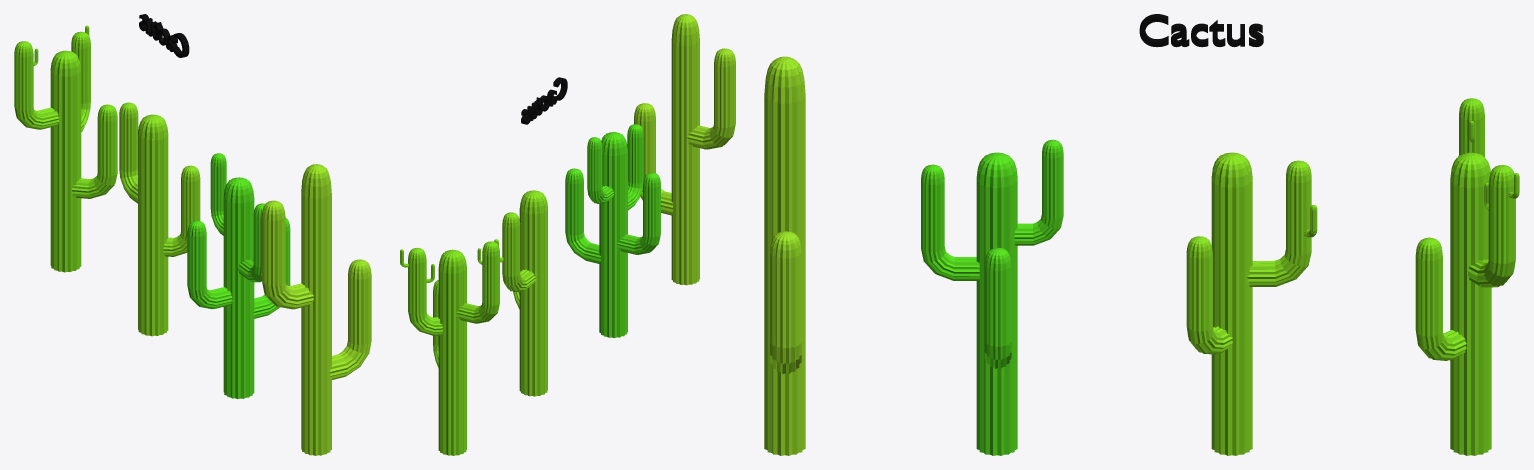
File: cactus.gltf
3 views of the same model, side by side, from view 1: azimuth 30°, elevation 25°; view 2: azimuth 150°, elevation 25°; view 3: azimuth 270°, elevation 25° (orthographic). The views are drawn at different scales.
Visible parts, largest first — view 1: Circle.003, Circle.001, Circle, Circle.002, Text; view 2: Circle.003, Circle, Circle.001, Circle.002, Text; view 3: Circle.001, Circle.002, Circle, Circle.003, Text.
Part boxes in pixels (box(x1,y1,x2,y2)): Circle.003: box(262, 164, 371, 455); Circle.001: box(14, 25, 117, 272); Circle: box(187, 153, 290, 398); Circle.002: box(119, 102, 200, 336); Text: box(139, 14, 189, 57); Circle.003: box(634, 14, 735, 285); Circle: box(565, 124, 660, 337); Circle.001: box(400, 241, 499, 455); Circle.002: box(494, 190, 547, 396); Text: box(521, 77, 567, 124); Circle.001: box(1415, 98, 1519, 455); Circle.002: box(1186, 152, 1317, 455); Circle: box(921, 139, 1063, 455); Circle.003: box(764, 56, 805, 455); Text: box(1139, 14, 1263, 47).
Bounding box in the file's own units: 0.9965 × 2.83 × 4.48.
